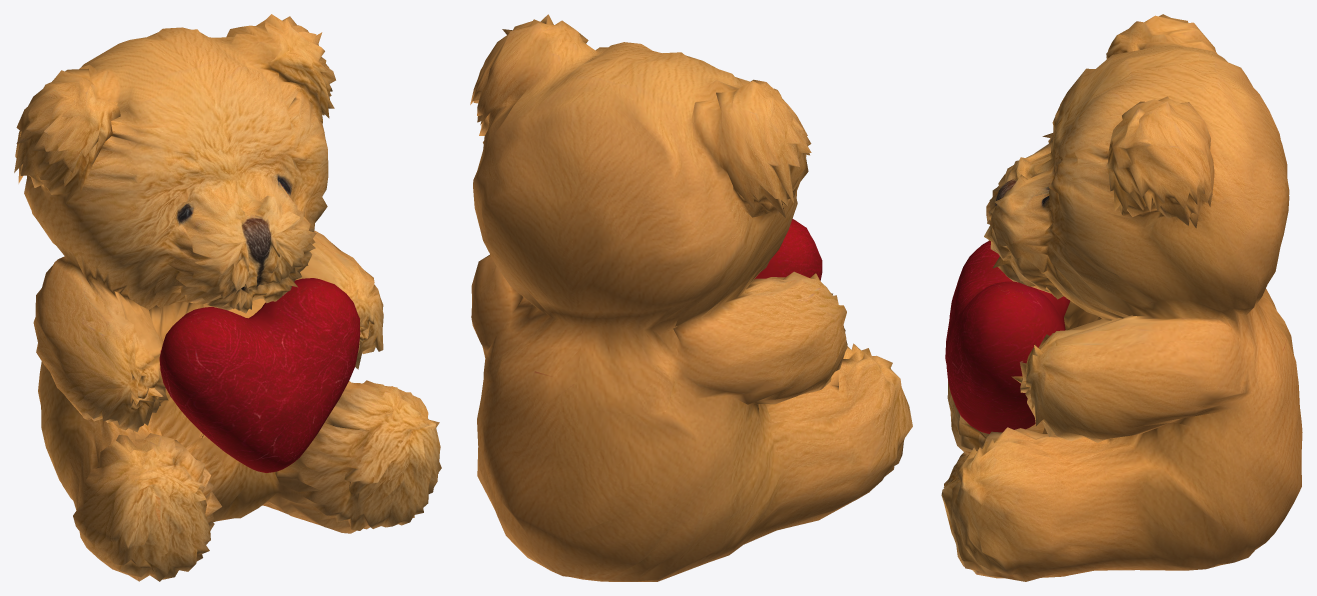
Rendered from Meshy_AI_Teddy_Bear_Love_1020124907_texture.glb.
3 renders of one model, left to right at view 1: azimuth 30°, elevation 25°; view 2: azimuth 150°, elevation 25°; view 3: azimuth 270°, elevation 25°, orthographic. The views are drawn at different scales.
Size of the model in its own units: 0.7085 by 0.9512 by 0.6426.
Materials: 1 (1 with a texture image).
